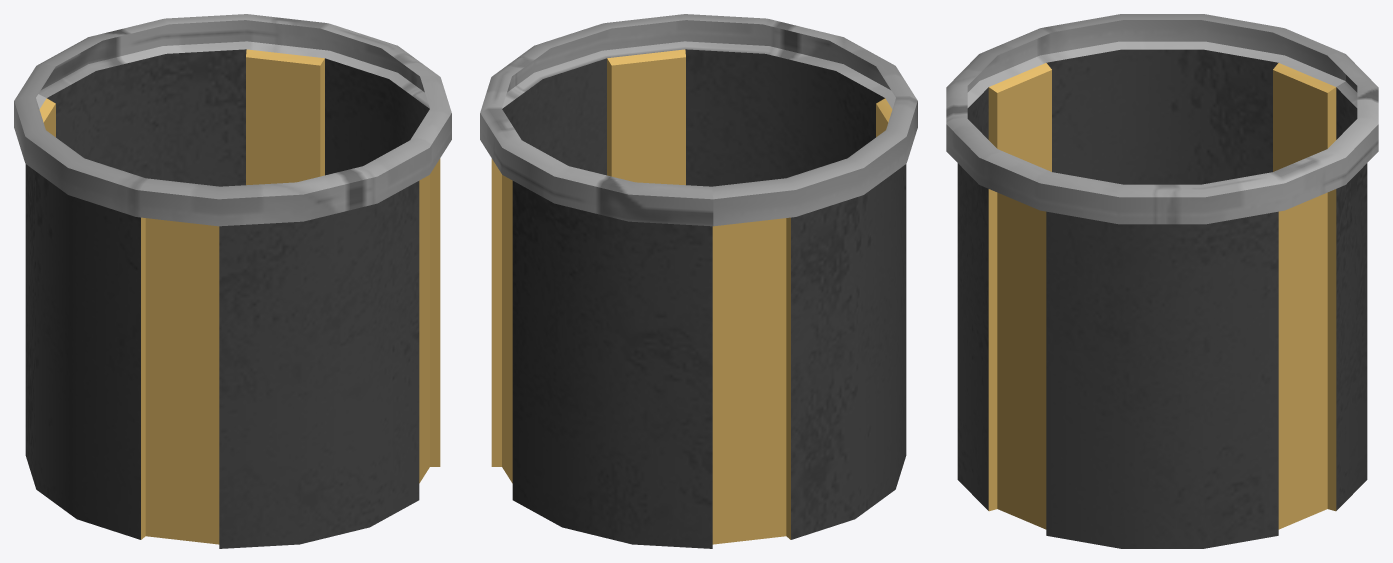
Rendered from NB_Middle_cyvilian_Building_1.fbx.
The picture shows the model from 3 angles, left to right: view 1: azimuth 30°, elevation 25°; view 2: azimuth 150°, elevation 25°; view 3: azimuth 270°, elevation 25°; orthographic projection.
Visible parts, largest first — view 1: NB_Middle_cyvilian_Building_1; view 2: NB_Middle_cyvilian_Building_1; view 3: NB_Middle_cyvilian_Building_1.
Part boxes in pixels (left/top/right/bottom): NB_Middle_cyvilian_Building_1: left=14, top=14, right=451, bottom=548; NB_Middle_cyvilian_Building_1: left=480, top=14, right=917, bottom=548; NB_Middle_cyvilian_Building_1: left=946, top=14, right=1378, bottom=548.
Size of the model in its own units: 218 by 200 by 218.
